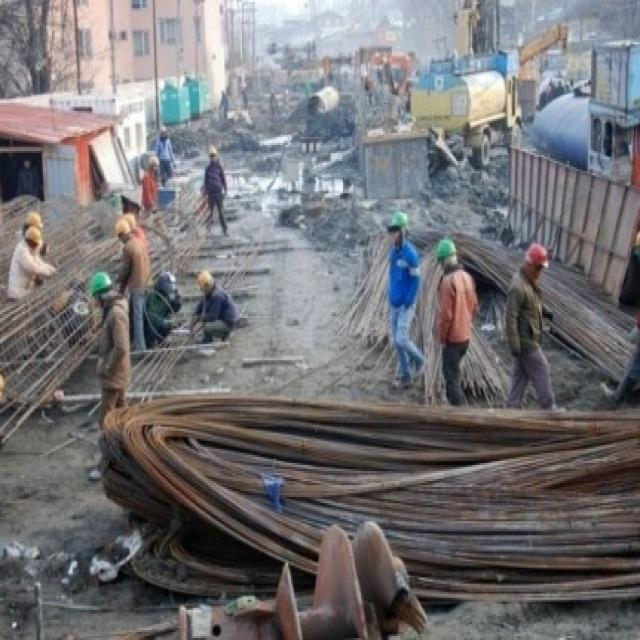helmet: (523, 324, 550, 375), (90, 364, 119, 409), (387, 281, 411, 335), (435, 317, 462, 363), (23, 299, 47, 336), (115, 291, 138, 328), (196, 361, 216, 396), (148, 204, 165, 233), (207, 193, 219, 219)
